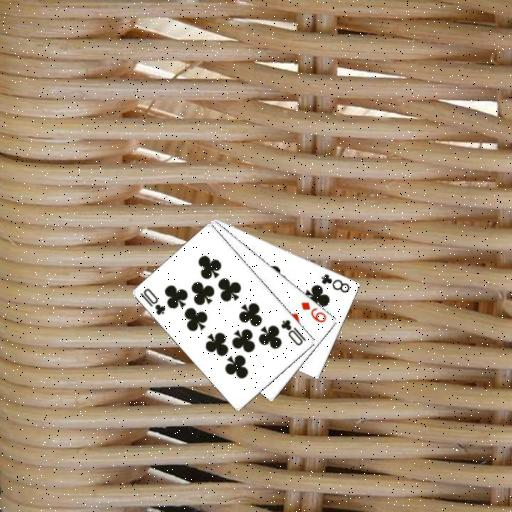10C: (138, 285, 168, 317), (278, 317, 308, 347)
8C: (318, 271, 352, 295)
9D: (298, 299, 328, 325)
